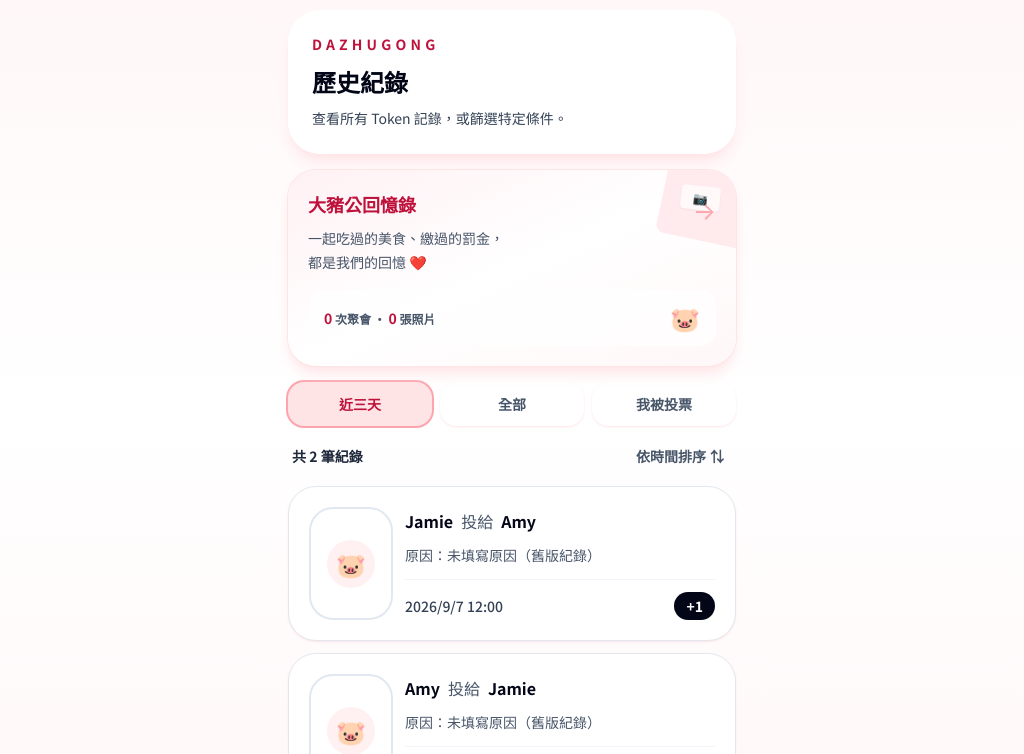
History page › 全部 scope: advanced query › filters results by target member only after clicking 搜尋 (not live while adjusting the dropdown)
Click the tab "全部": (512, 404) [440,382,584,426]
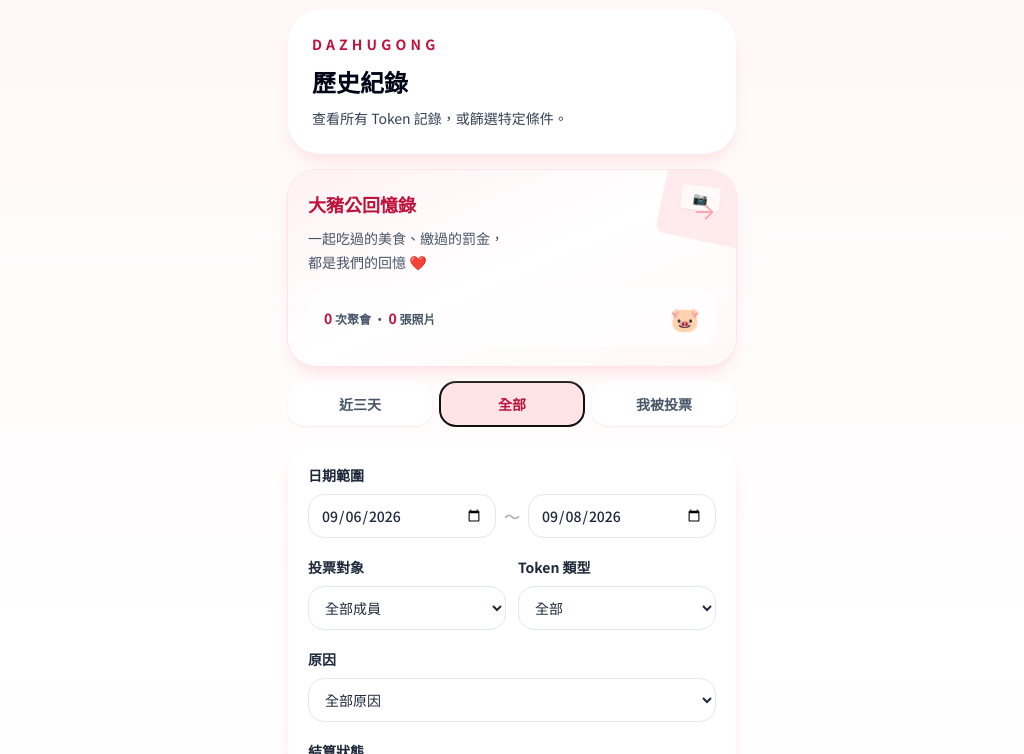
Select "Amy" in the dropdown labelled "投票對象": (407, 608) [308,586,506,630]
(page scrolled)
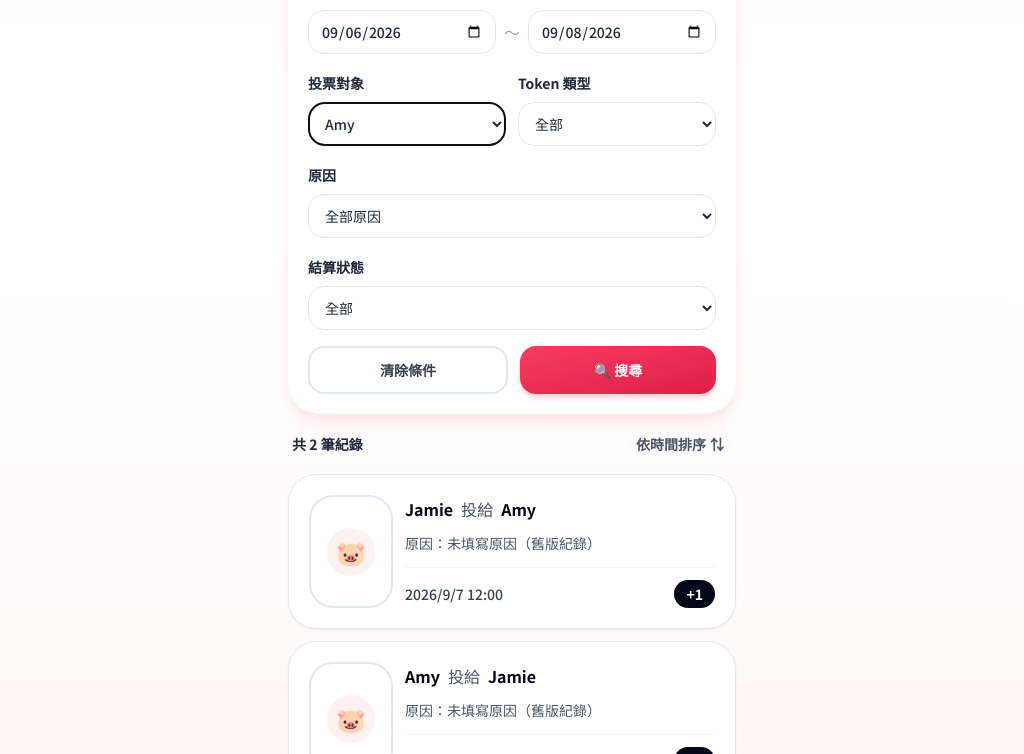
Expected: the text "共 2 筆紀錄" is shown, [292,434,363,454]
Click the button "🔍 搜尋": (618, 370) [520,346,716,394]
(page scrolled)
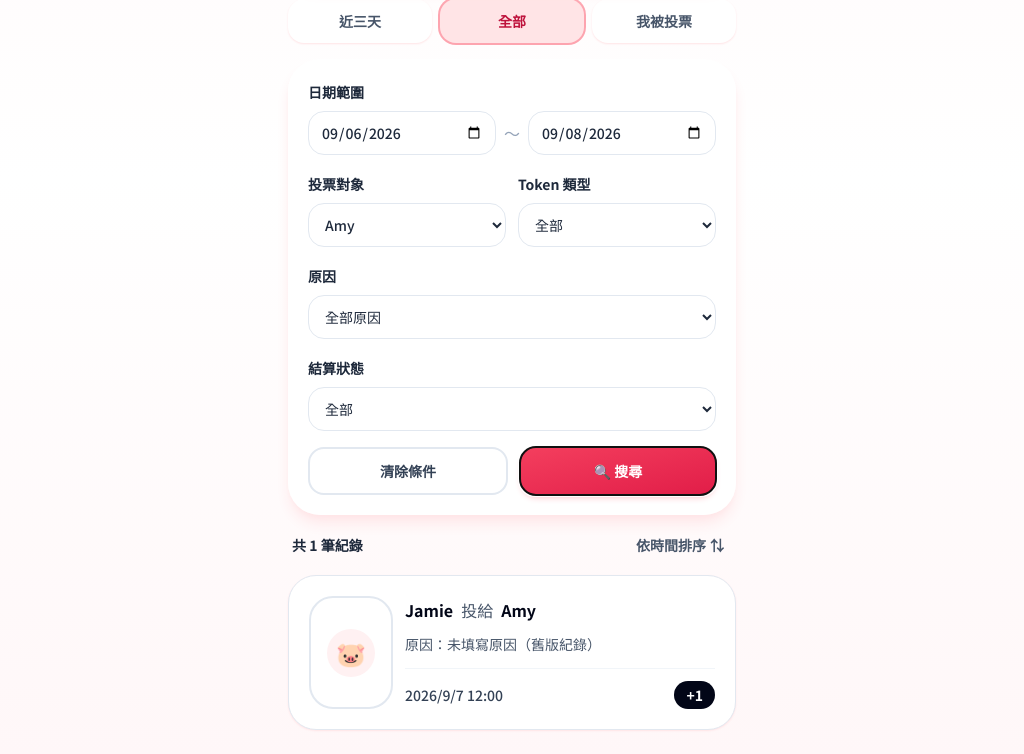
Expected: the picture named "Amy" is shown, [309,596,393,709]
Now the text "共 1 筆紀錄" is shown, box [292,535,363,555]
